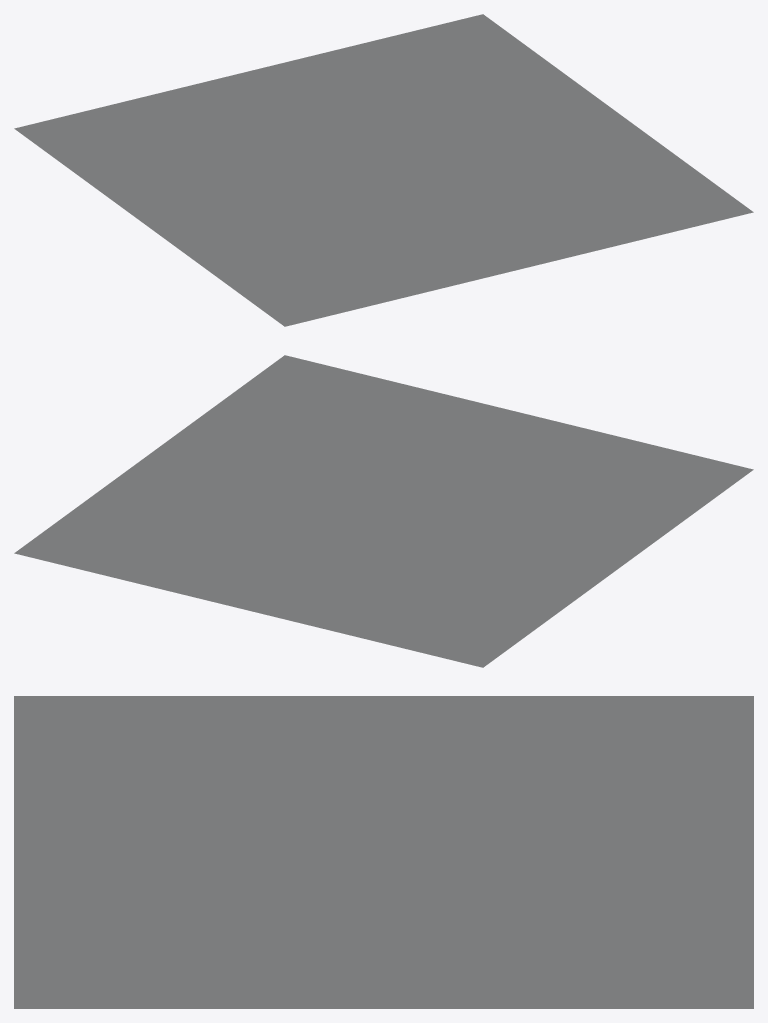
File: Ceiling_type_B_025.fbx
3 views of the same model, one above another, from view 1: azimuth 30°, elevation 25°; view 2: azimuth 150°, elevation 25°; view 3: azimuth 270°, elevation 25° (orthographic). The views are drawn at different scales.
Parts seen in each view (by area): view 1: Ceiling_type_B_025; view 2: Ceiling_type_B_025; view 3: Ceiling_type_B_025.
Boxes of the visible parts, bbox=[...] form: Ceiling_type_B_025: bbox=[14, 14, 753, 326]; Ceiling_type_B_025: bbox=[14, 355, 753, 667]; Ceiling_type_B_025: bbox=[14, 696, 753, 1008].
Bounding box in the file's own units: 400 × 400 × 6.18.
